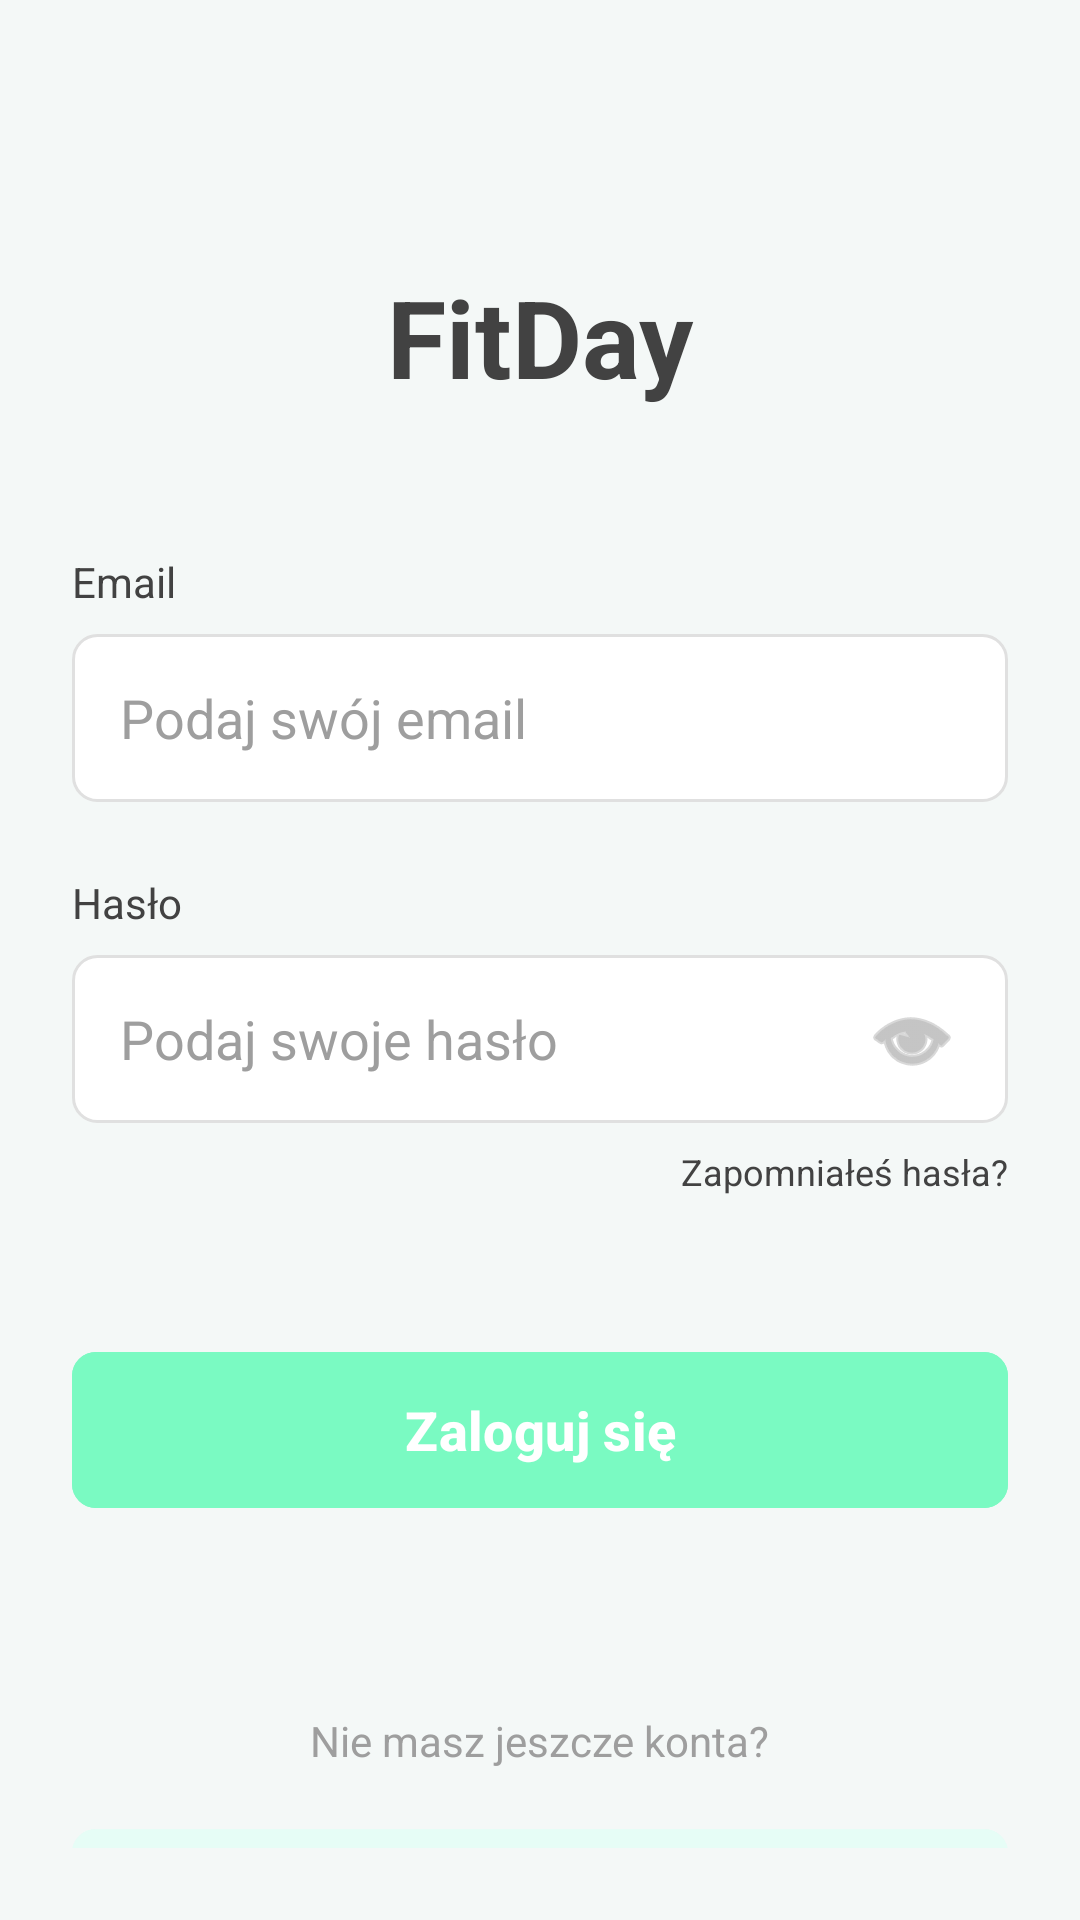

Screen size 1080*1920. Icon name, then its center in pixels as point (x, y):
view: point (912, 1041)
